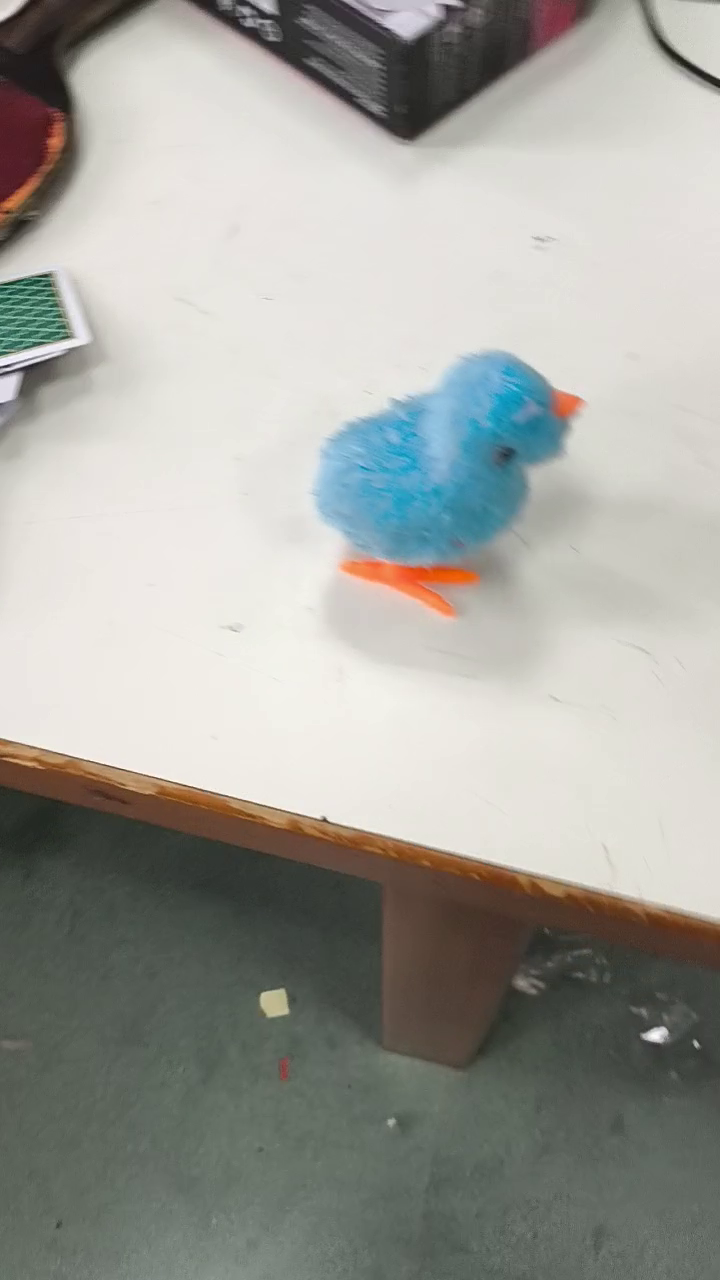blue chicken: (305, 344, 592, 621)
